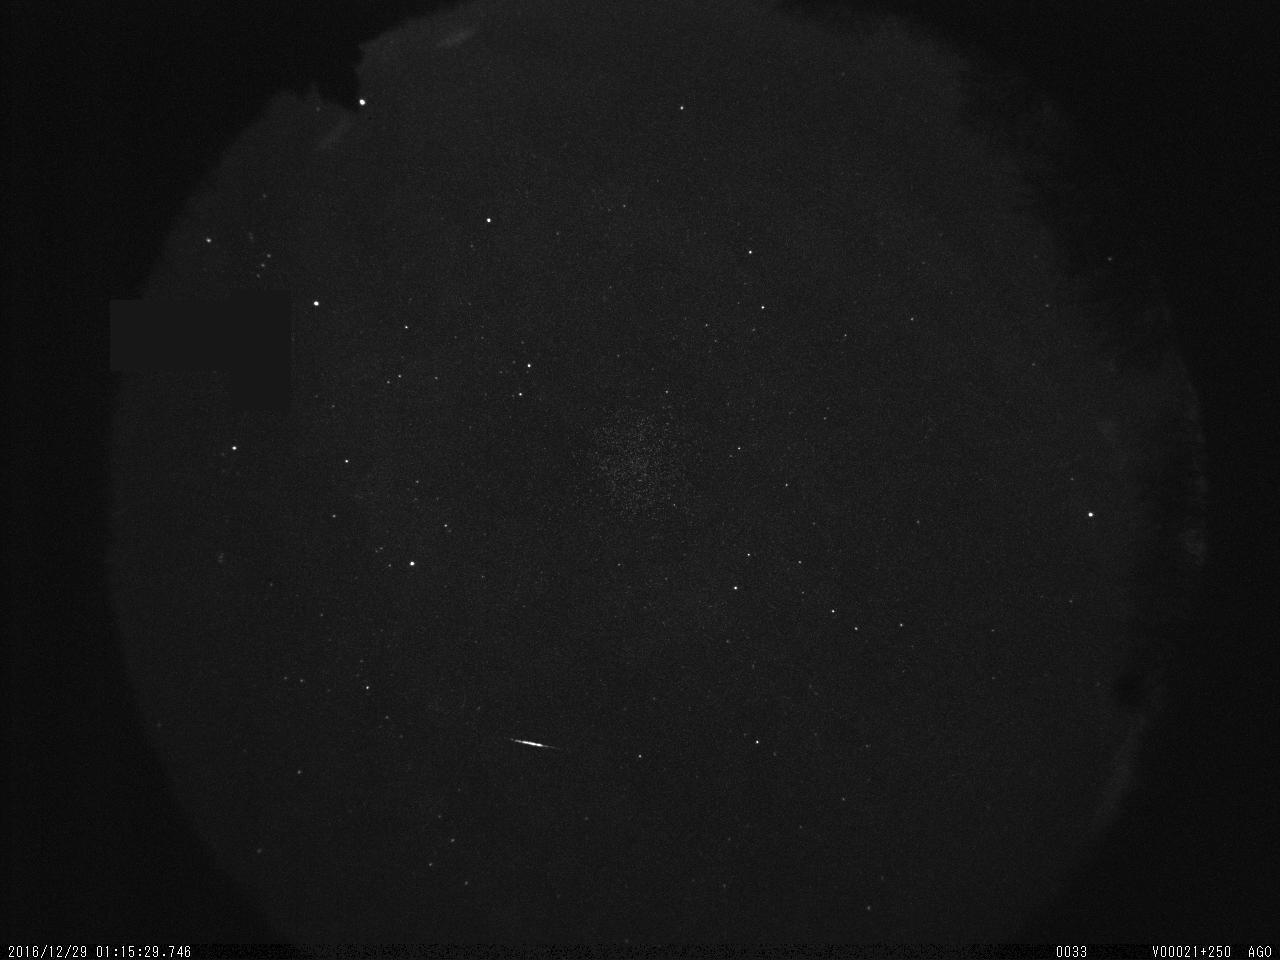meteor: (518, 729, 569, 762)
